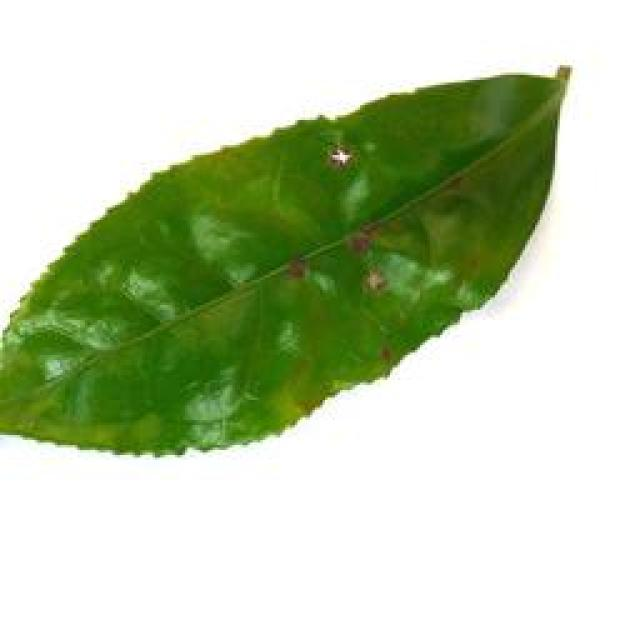Helopeltis: (1, 62, 600, 456)
